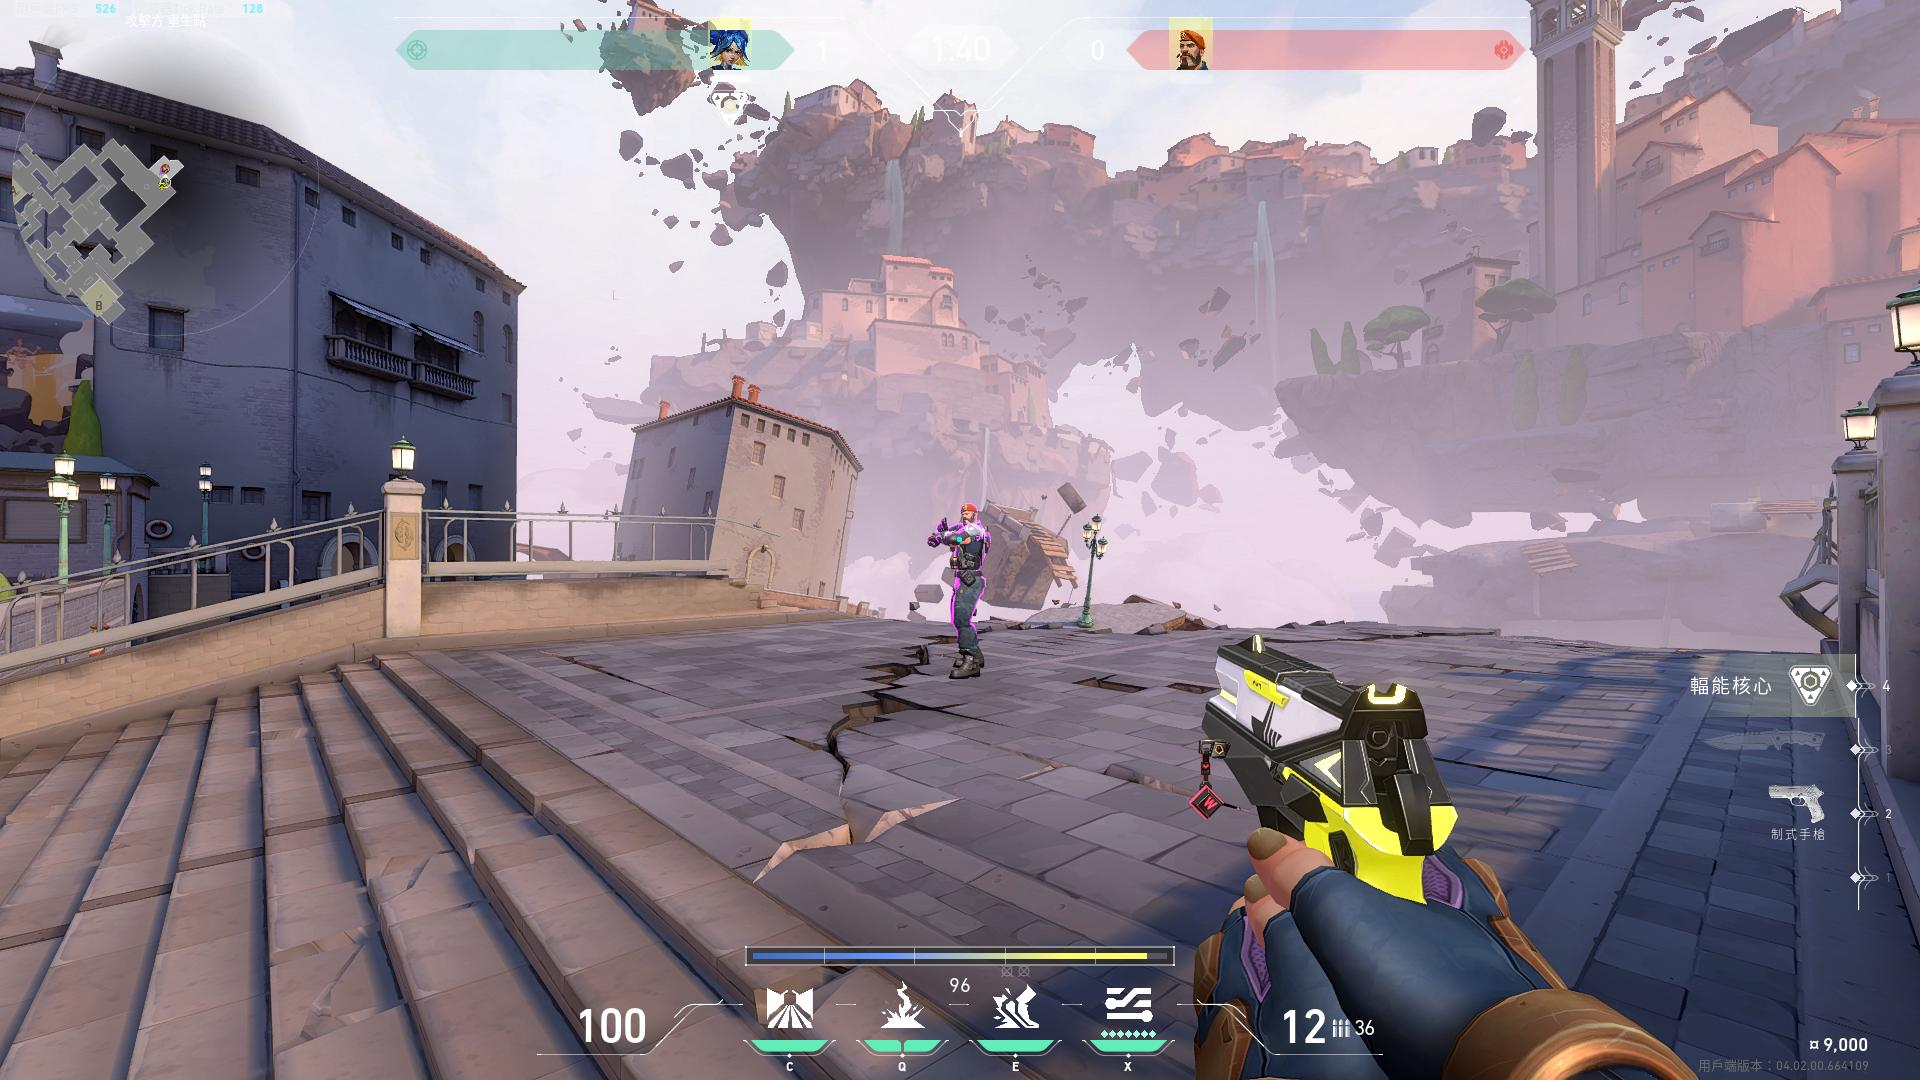enemyBody: (956, 527, 982, 567)
enemyHead: (963, 506, 975, 524)
